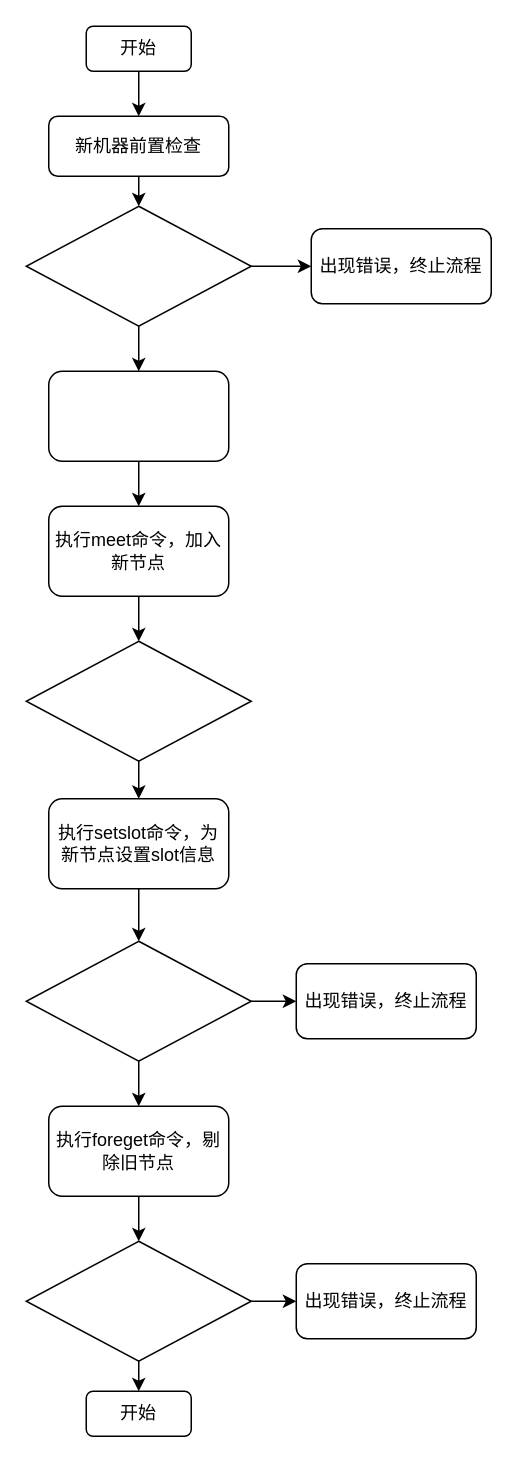
Some shapes in this 518 by 1463 pixel diagram are drawn without their labels. Here are the shapes that lost their labels. From the top down, the centre of each, then its label:
At (x=138, y=265): "是否有redkv 相关文件或目录".
At (x=138, y=415): "执行创建流程，到meet节点步骤停止".
At (x=138, y=700): "检查节点是否加入成功".
At (x=138, y=1000): "检查slot信息".
At (x=138, y=1300): "检查旧节点 是否剔除成功".
